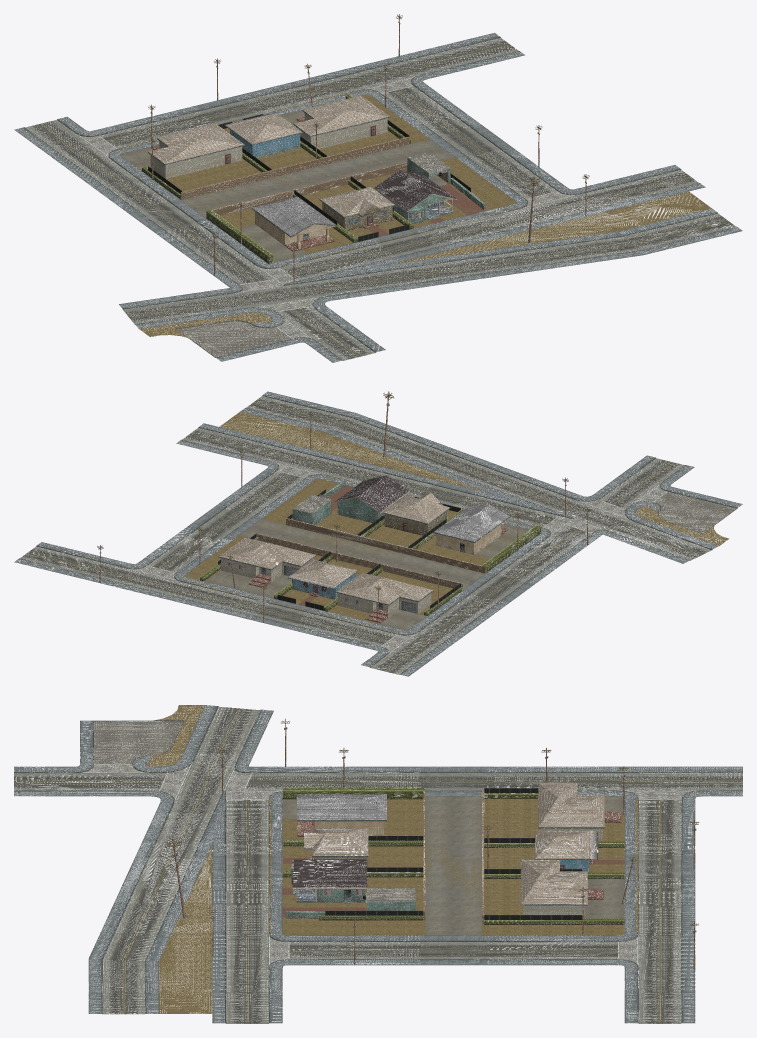
The model's file is bigsmoke2.dae.
3 renders of one model, top to bottom at view 1: azimuth 30°, elevation 25°; view 2: azimuth 150°, elevation 25°; view 3: azimuth 270°, elevation 25°, orthographic. The views are drawn at different scales.
Visible parts, largest first — view 1: group_44 (×13), group_4 (×4), group_33 (×5), group_32 (×5), group_28 (×5), group_19 (×2), group_22 (×2), group_34 (×2), group_1 (×2), group_21 (×2), group_5, group_42 (×2) (+6 smaller); view 2: group_44 (×13), group_4 (×6), group_33 (×5), group_32 (×5), group_28 (×5), group_19 (×2), group_22 (×2), group_1 (×2), group_34 (×2), group_42 (×2), group_3, group_21 (×2) (+7 smaller); view 3: group_44 (×14), group_4 (×4), group_33 (×5), group_32 (×5), group_28 (×5), group_22 (×2), group_1 (×2), group_34 (×2), group_19, group_42, group_21, group_2 (+9 smaller).
Boxes of the visible parts, left/top/right/bottom form: group_44 (×13): left=119, top=191, right=742, bottom=362; group_4 (×4): left=141, top=94, right=516, bottom=262; group_33 (×5): left=233, top=32, right=524, bottom=137; group_32 (×5): left=414, top=146, right=705, bottom=250; group_28 (×5): left=14, top=106, right=214, bottom=211; group_19 (×2): left=148, top=123, right=244, bottom=178; group_22 (×2): left=294, top=95, right=389, bottom=148; group_34 (×2): left=374, top=170, right=456, bottom=224; group_1 (×2): left=252, top=196, right=336, bottom=245; group_21 (×2): left=227, top=114, right=301, bottom=158; group_5: left=180, top=136, right=409, bottom=199; group_42 (×2): left=320, top=186, right=394, bottom=230; group_44 (×13): left=219, top=391, right=742, bottom=583; group_4 (×6): left=183, top=478, right=529, bottom=630; group_33 (×5): left=14, top=525, right=276, bottom=619; group_32 (×5): left=176, top=423, right=438, bottom=517; group_28 (×5): left=286, top=591, right=508, bottom=676; group_19 (×2): left=336, top=572, right=433, bottom=617; group_22 (×2): left=219, top=537, right=315, bottom=582; group_1 (×2): left=434, top=504, right=509, bottom=554; group_34 (×2): left=335, top=475, right=408, bottom=522; group_42 (×2): left=383, top=492, right=449, bottom=535; group_3: left=286, top=518, right=485, bottom=573; group_21 (×2): left=291, top=559, right=357, bottom=599; group_44 (×14): left=14, top=705, right=420, bottom=1014; group_4 (×4): left=282, top=796, right=624, bottom=935; group_33 (×5): left=487, top=877, right=695, bottom=1023; group_32 (×5): left=212, top=877, right=420, bottom=1023; group_28 (×5): left=487, top=766, right=742, bottom=855; group_22 (×2): left=521, top=859, right=587, bottom=918; group_1 (×2): left=297, top=794, right=386, bottom=835; group_34 (×2): left=291, top=859, right=367, bottom=903; group_19: left=538, top=783, right=604, bottom=827; group_42: left=304, top=827, right=368, bottom=855; group_21: left=535, top=830, right=590, bottom=858; group_2: left=282, top=788, right=424, bottom=799.
Size of the model in its own units: 4290 by 4151 by 503.
Materials: 44 (40 with a texture image).
